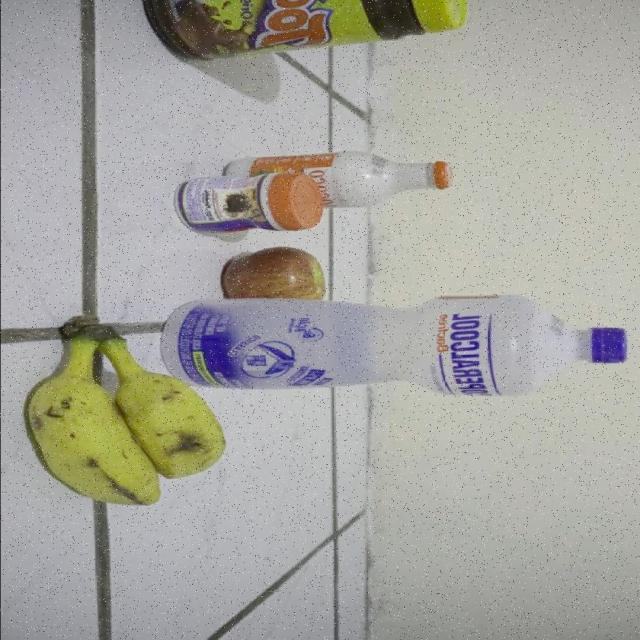AlcoholBottle: (230, 298, 629, 396)
Apple: (219, 246, 338, 297)
Banana: (9, 312, 225, 508)
ChocolatePowder: (146, 0, 473, 56)
CoconutMilk: (330, 150, 456, 208)
Yeast: (175, 175, 325, 235)
